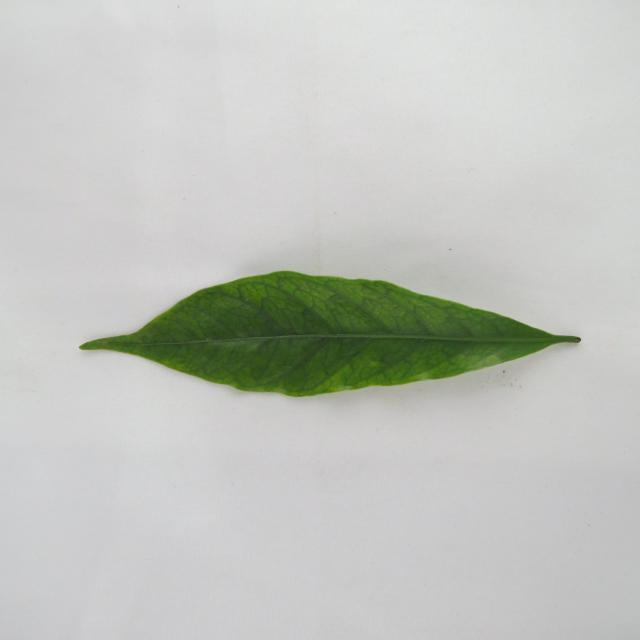DeficienciaNutricional-Manganeso: (80, 271, 580, 396)
